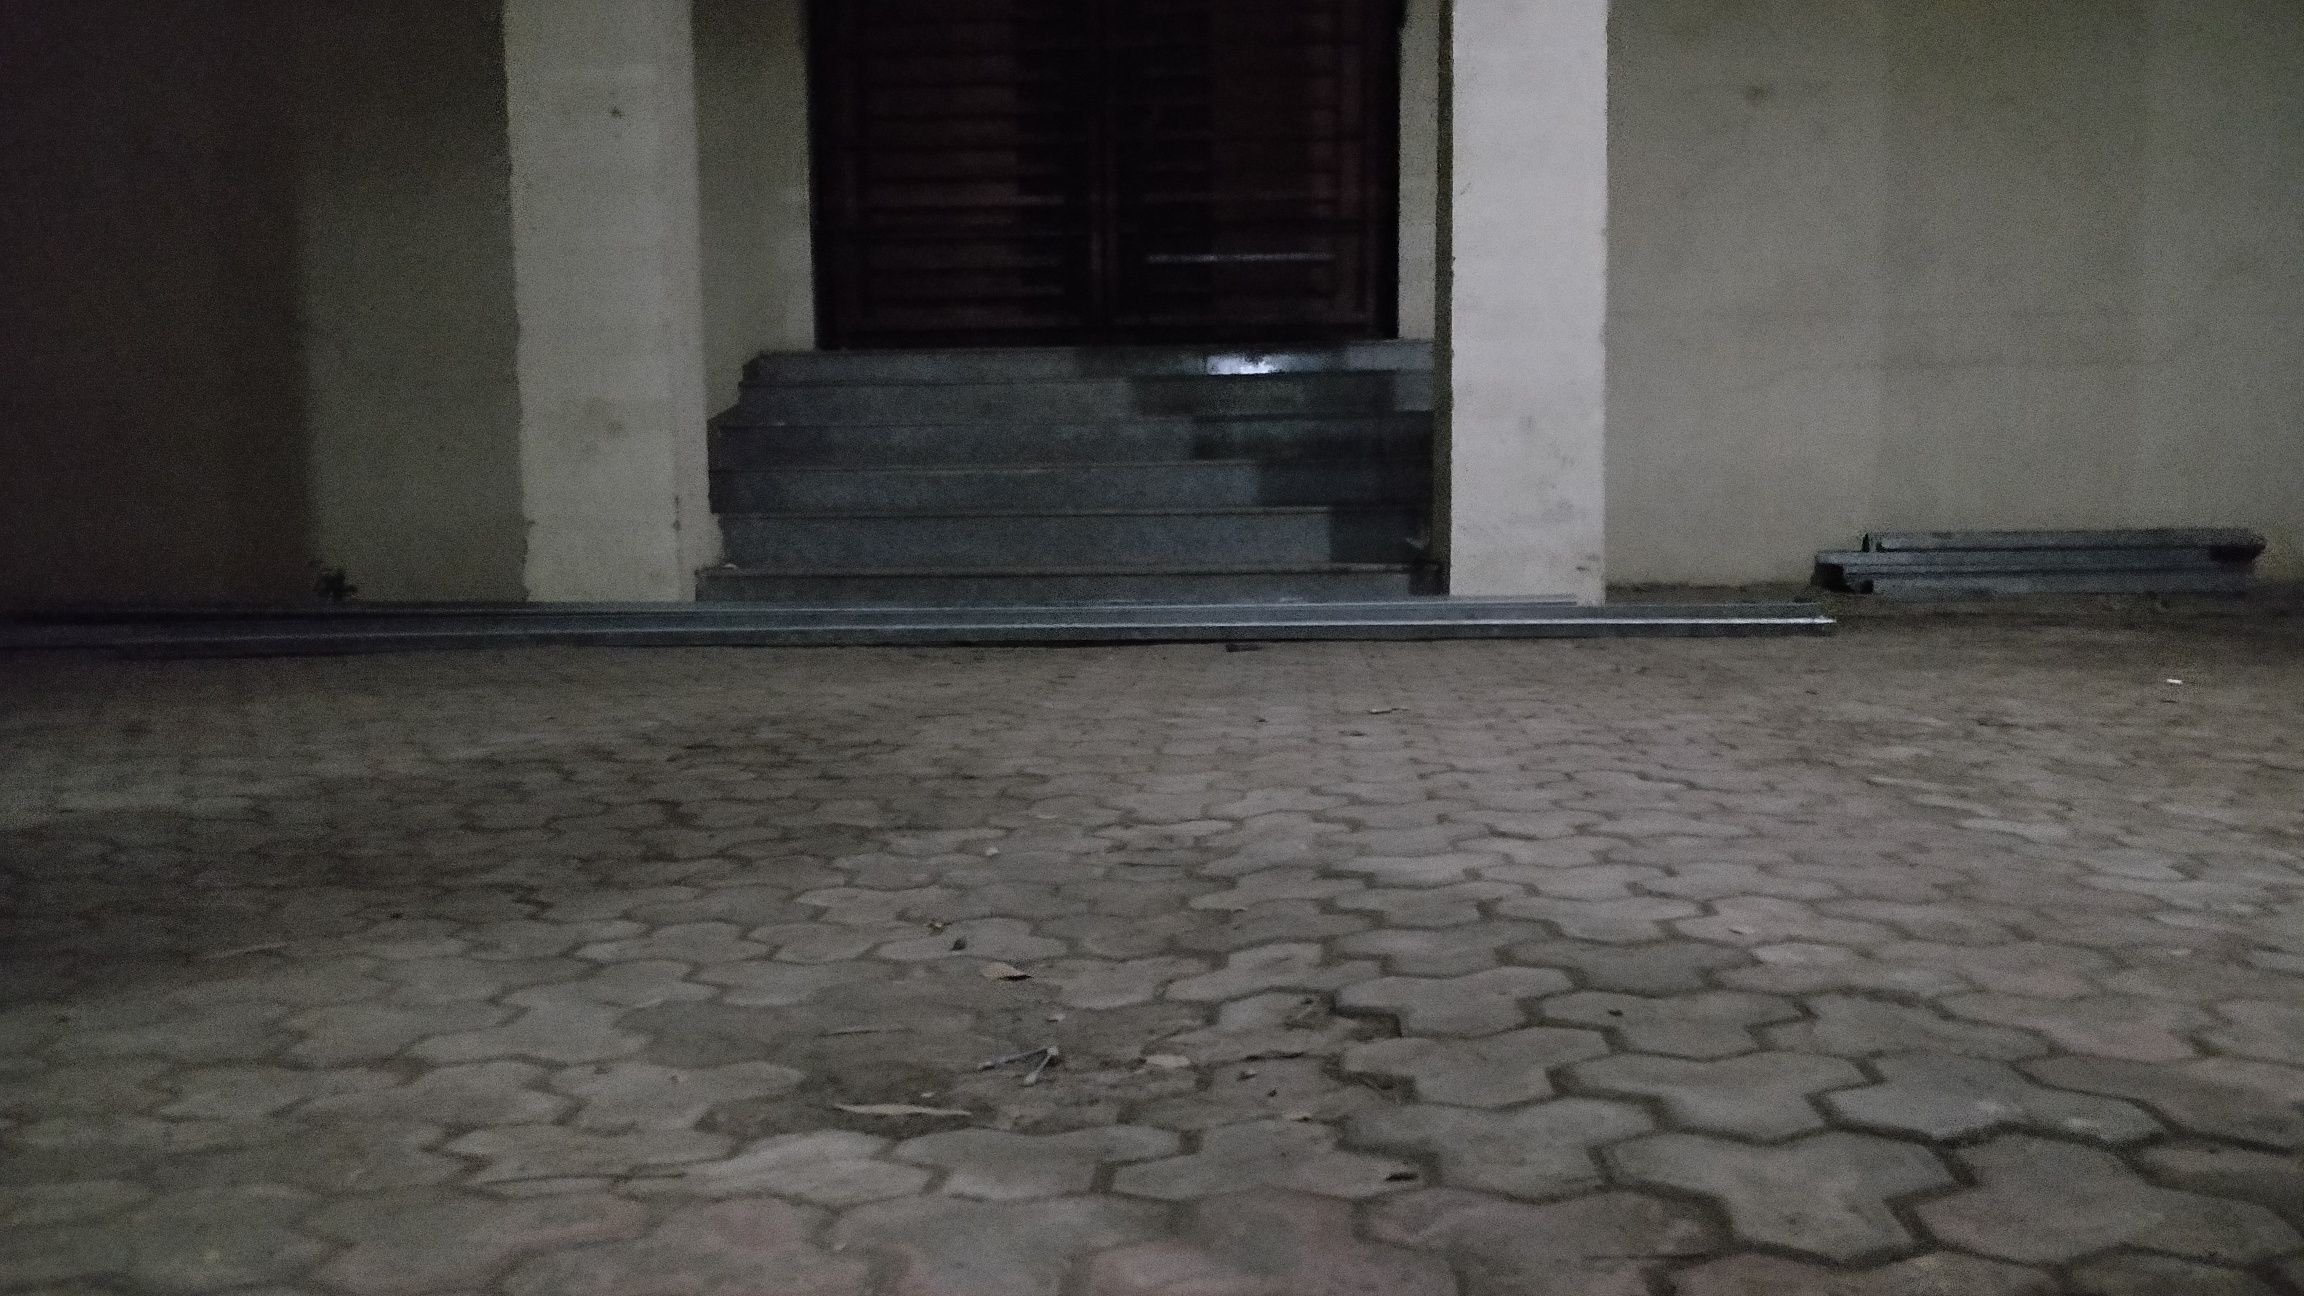stairs_up: (717, 351, 1435, 601)
